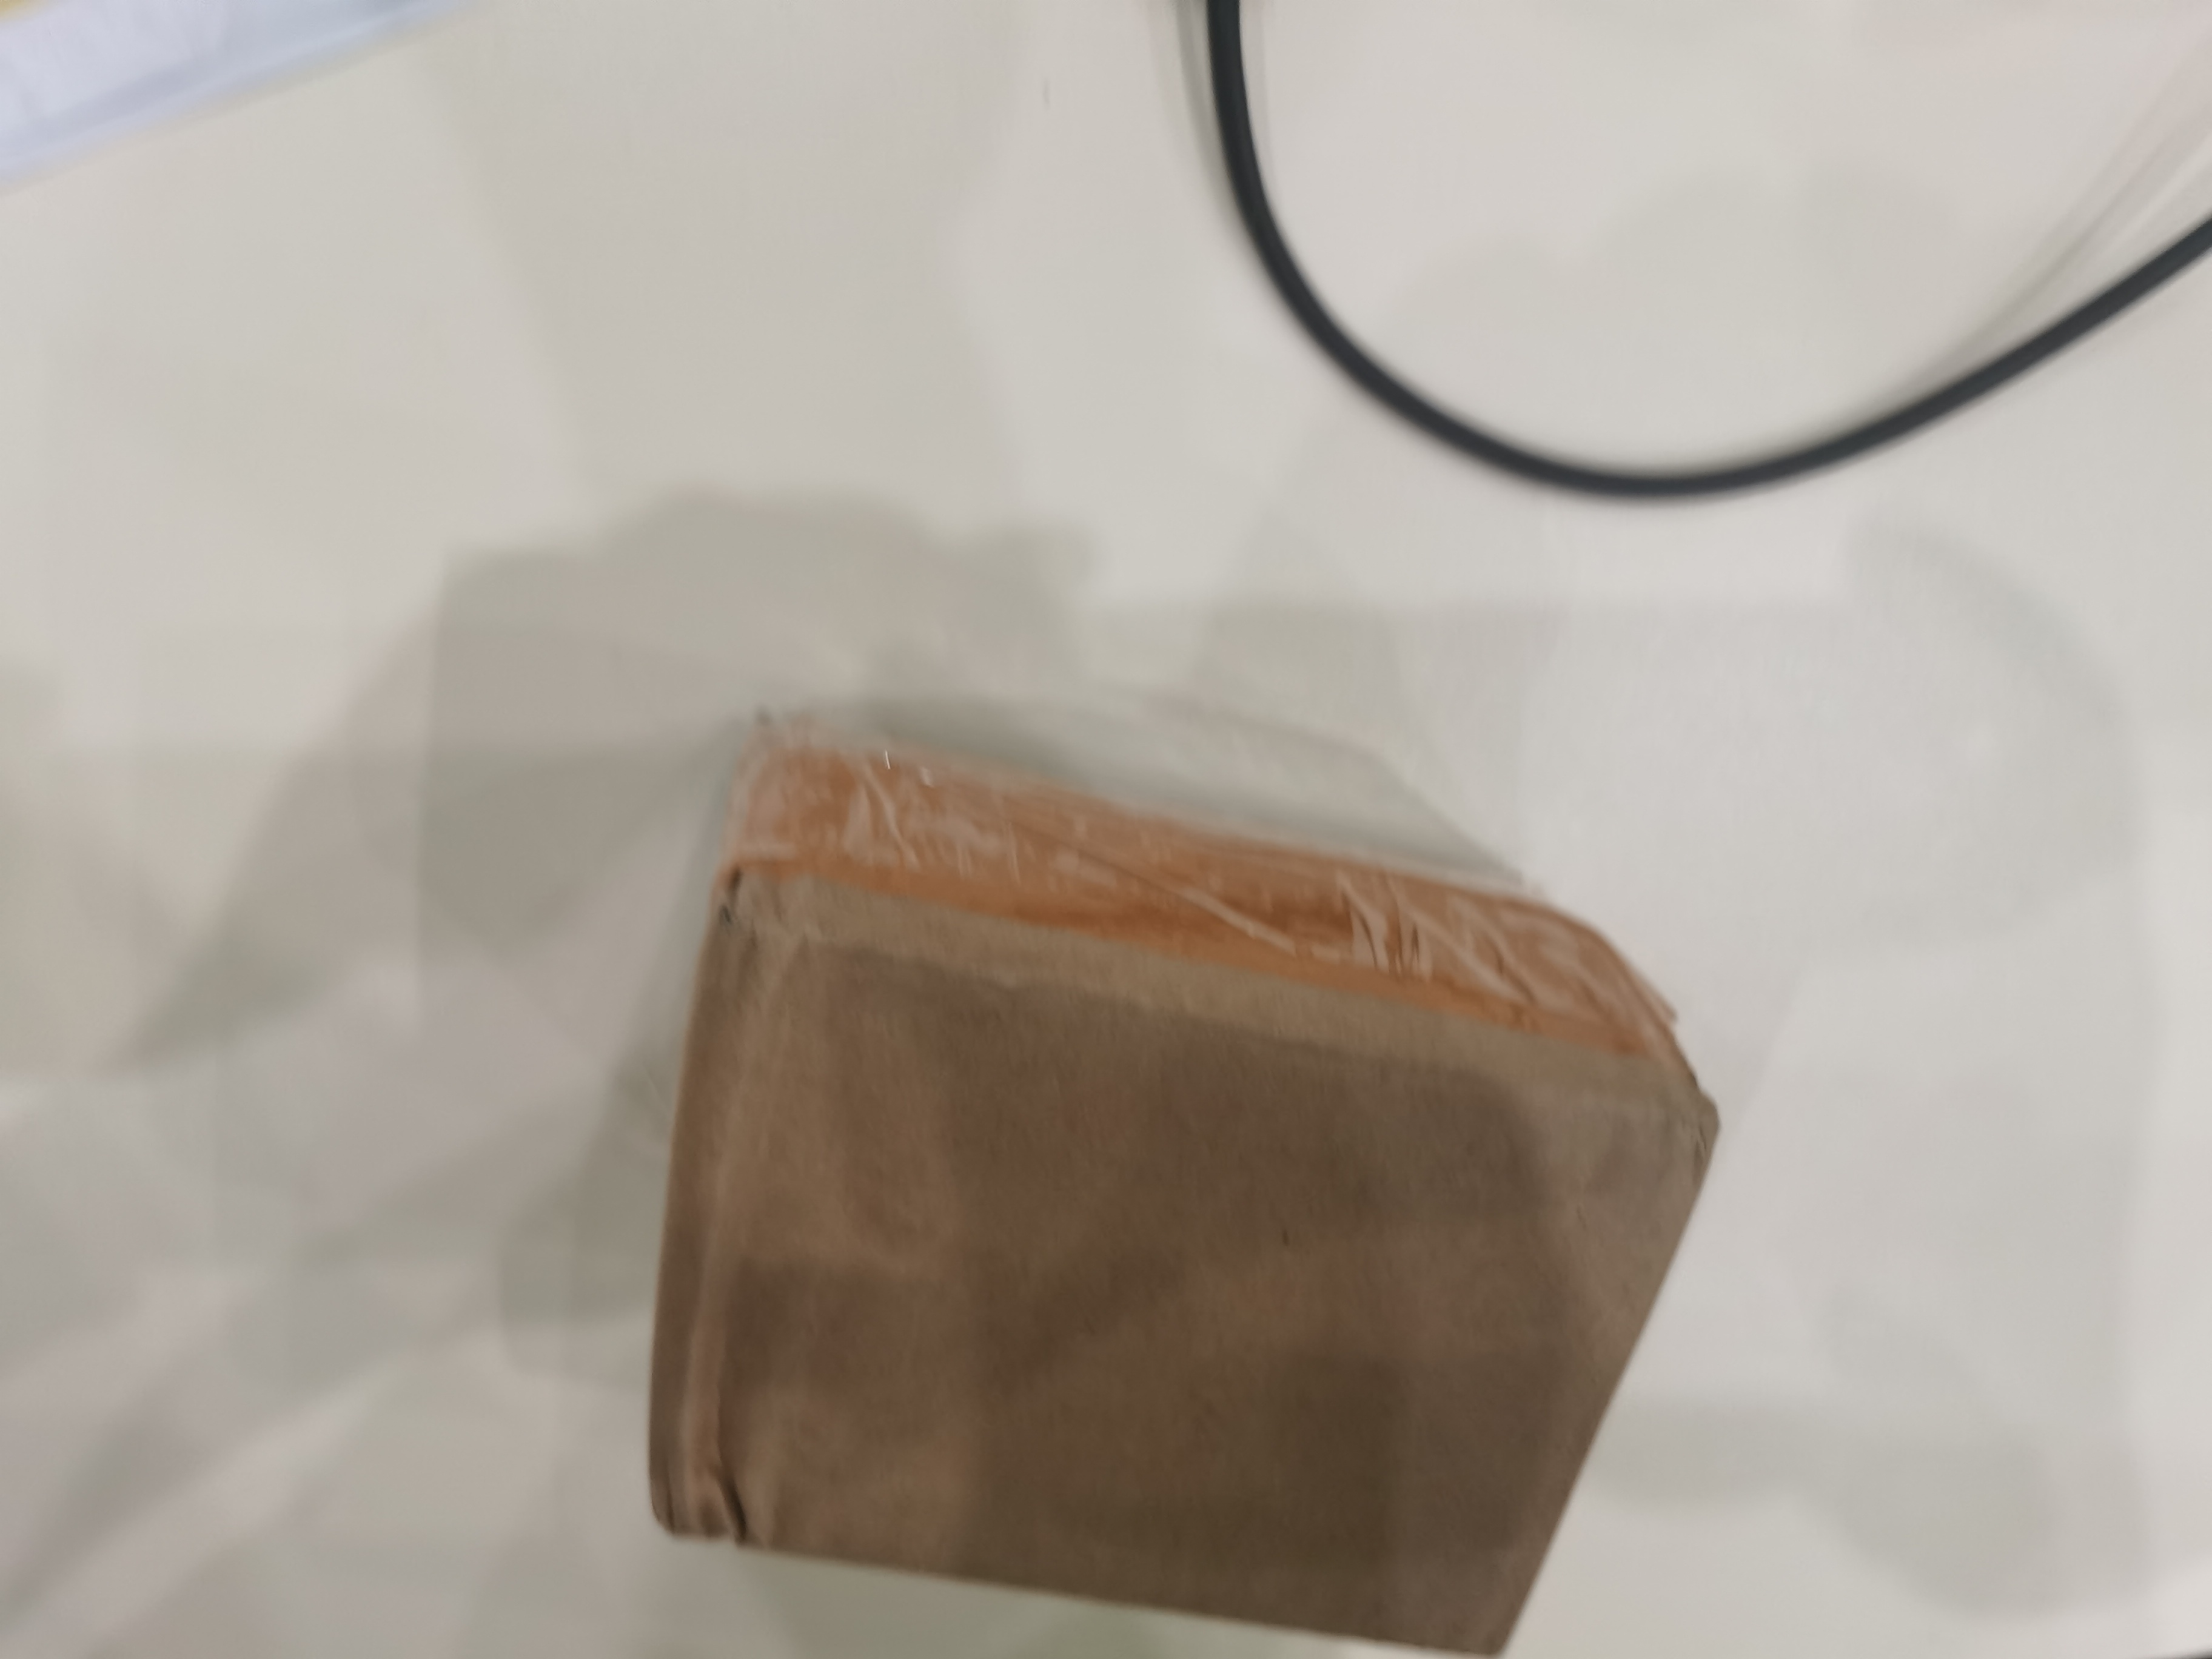box: (639, 694, 1733, 1659)
